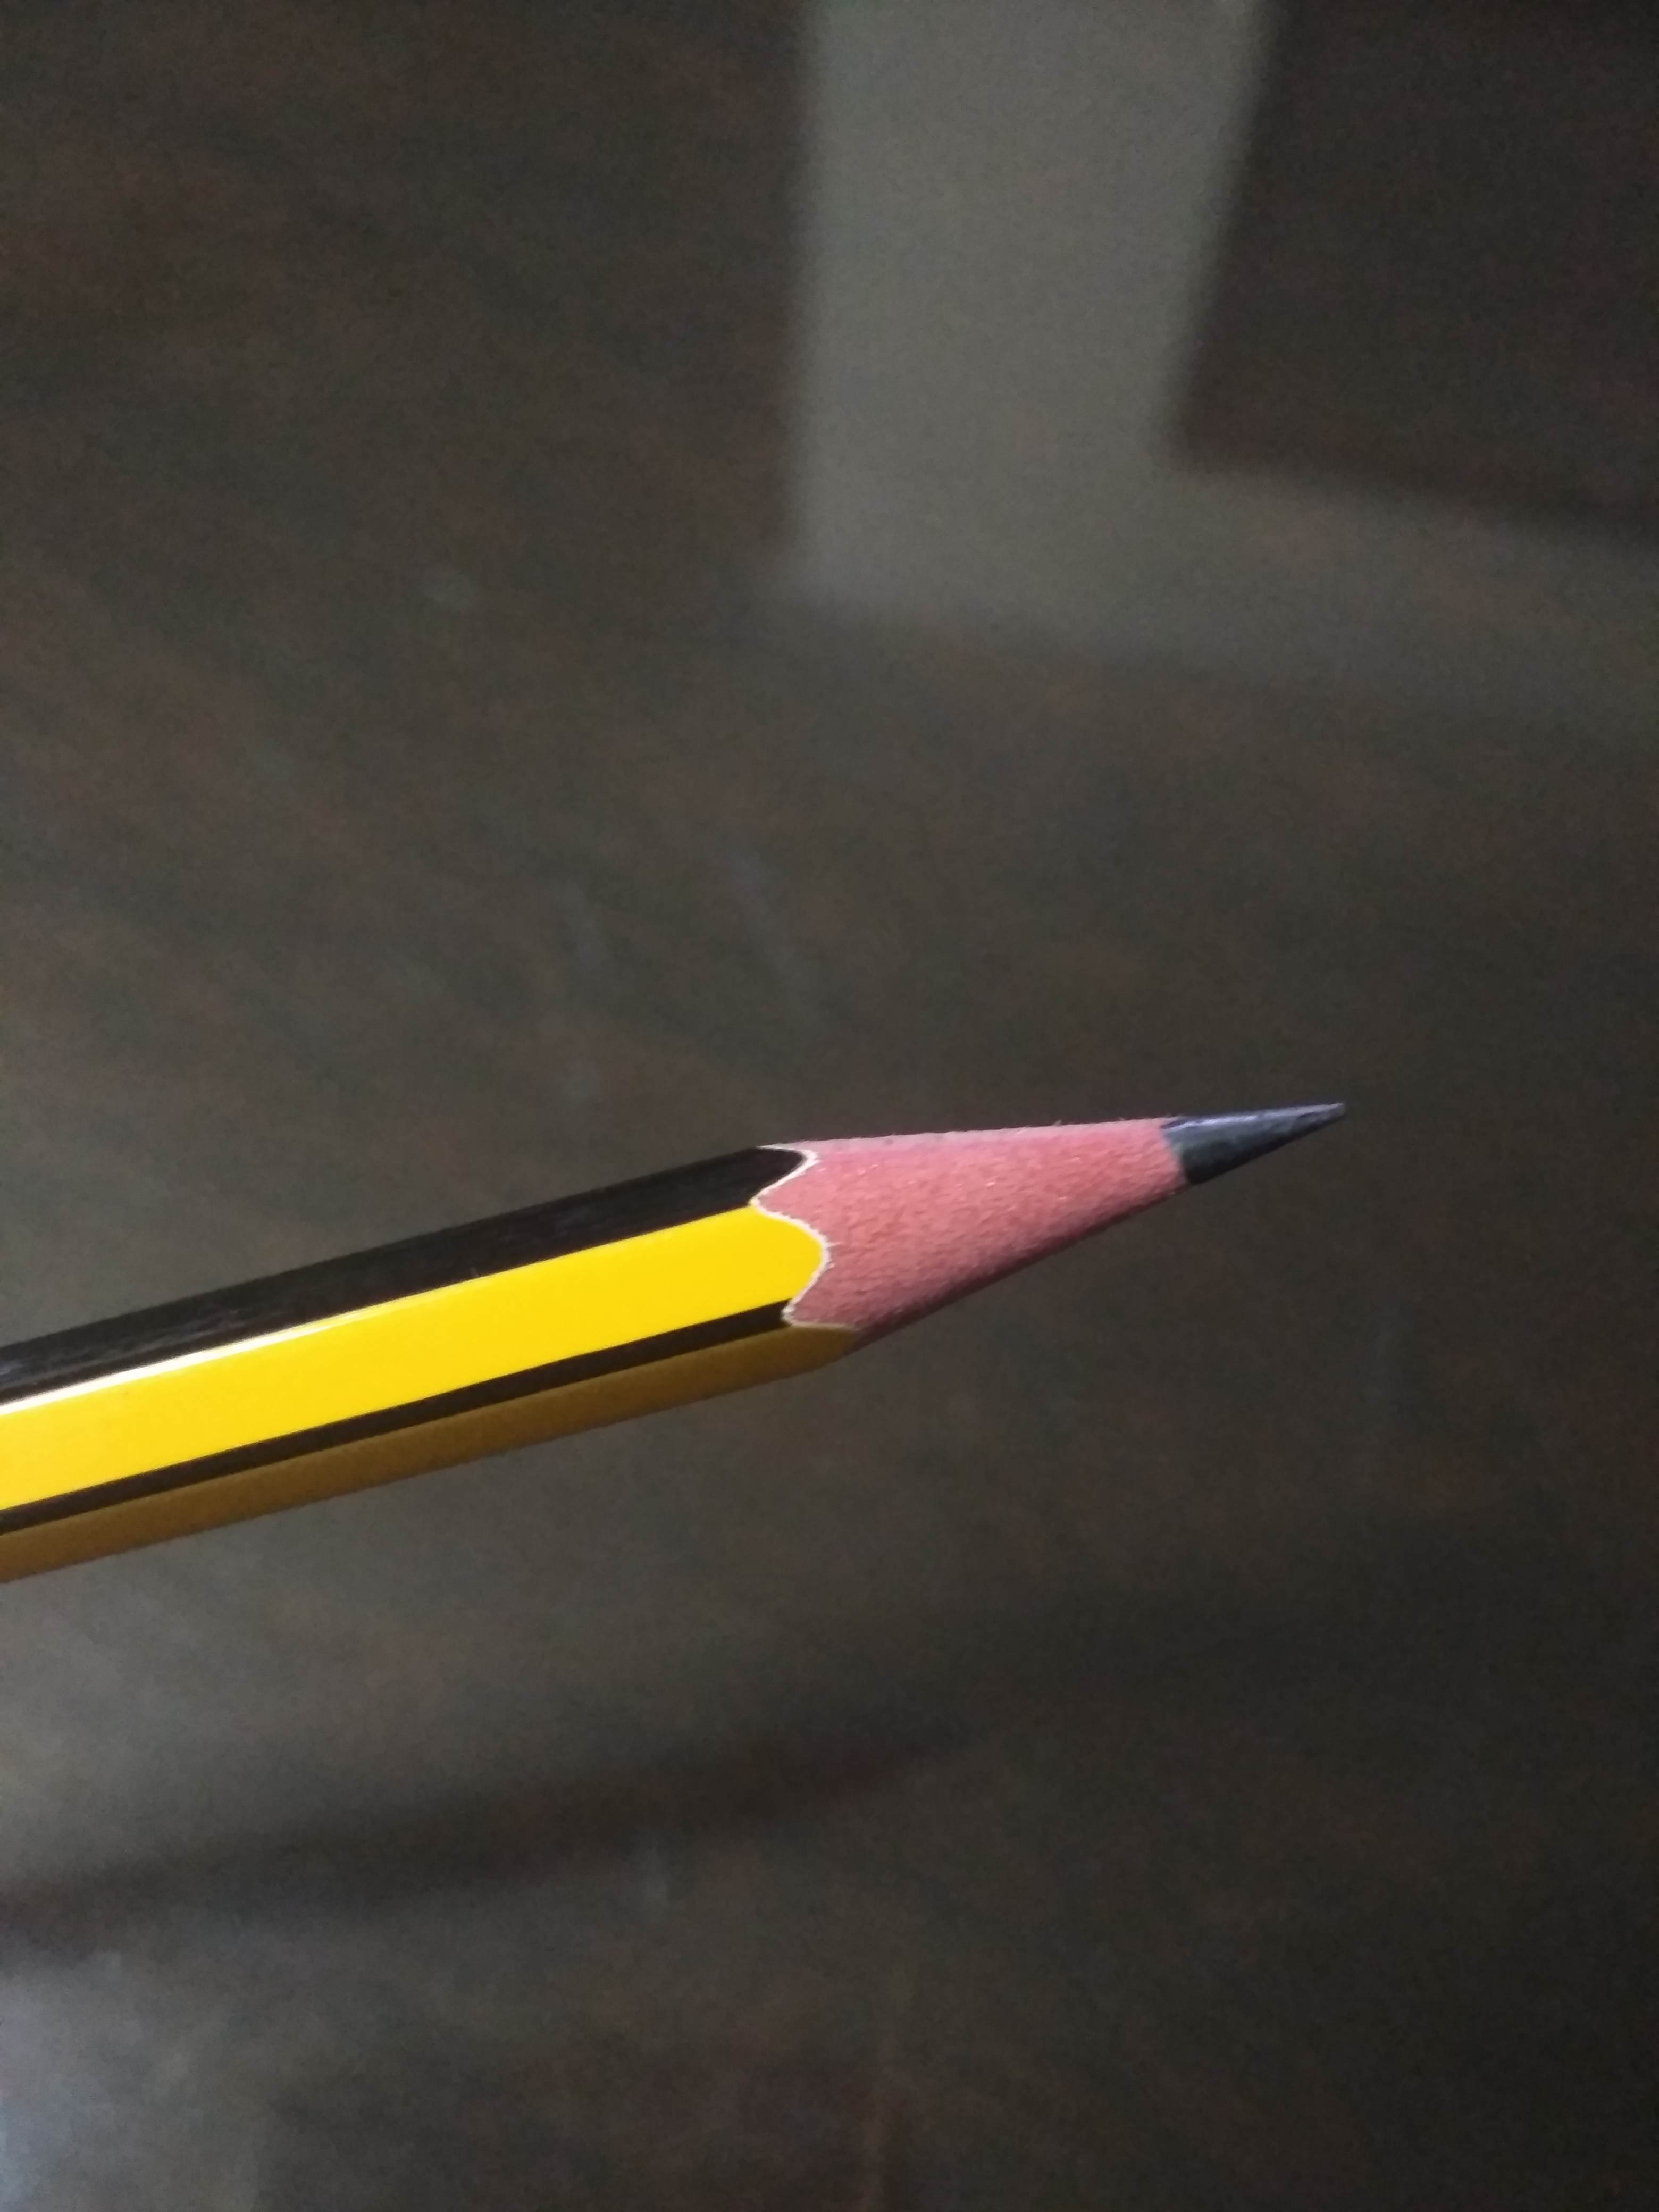pen_tip: (638, 989, 1436, 1411)
